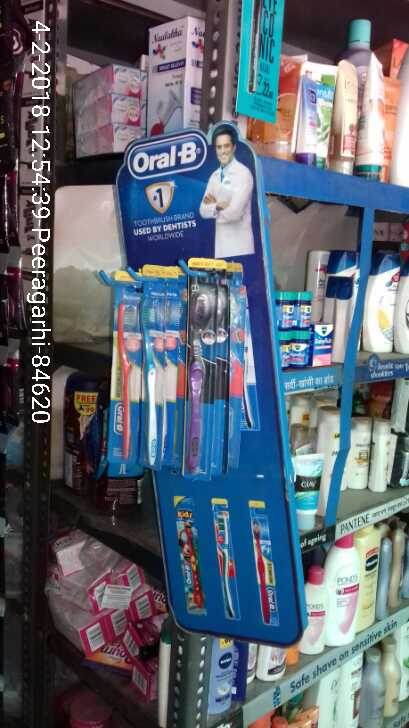beauty: (359, 245, 394, 352), (294, 451, 327, 523)
pharmacy: (183, 279, 212, 479), (266, 292, 337, 373), (141, 293, 169, 473), (111, 298, 136, 458)
